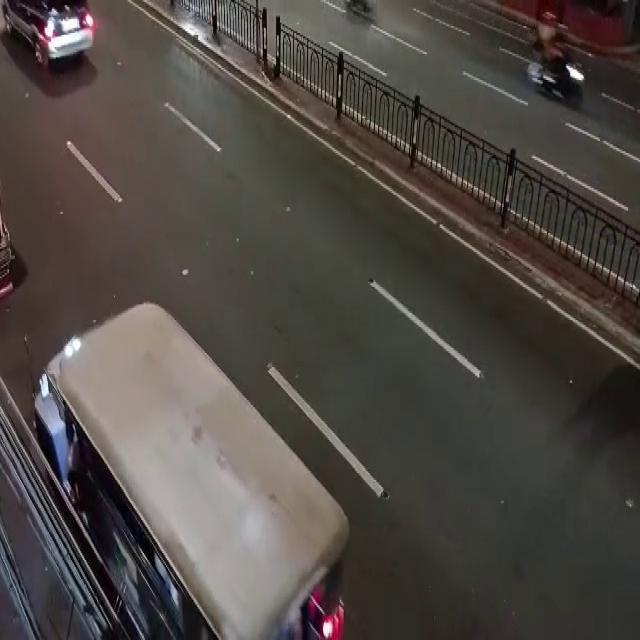jeepney: (143, 287, 627, 634)
motorcycle: (521, 15, 587, 104)
